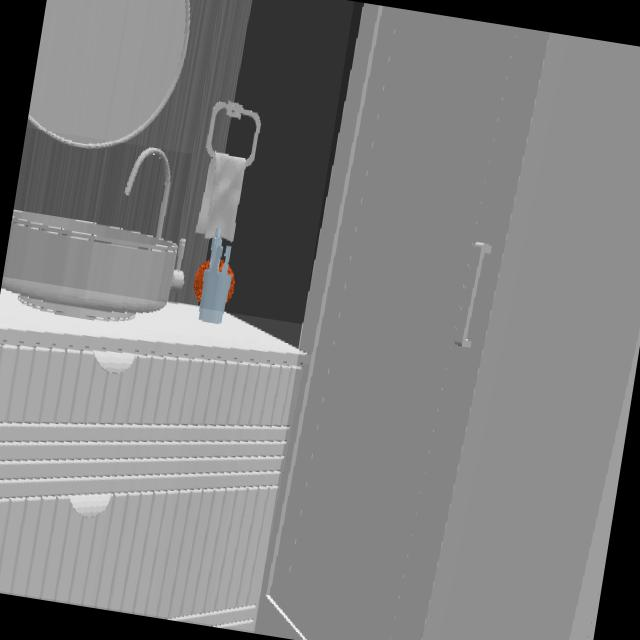cabinet: (0, 291, 305, 630)
shower: (256, 3, 640, 640)
washbasin: (1, 149, 177, 315)
